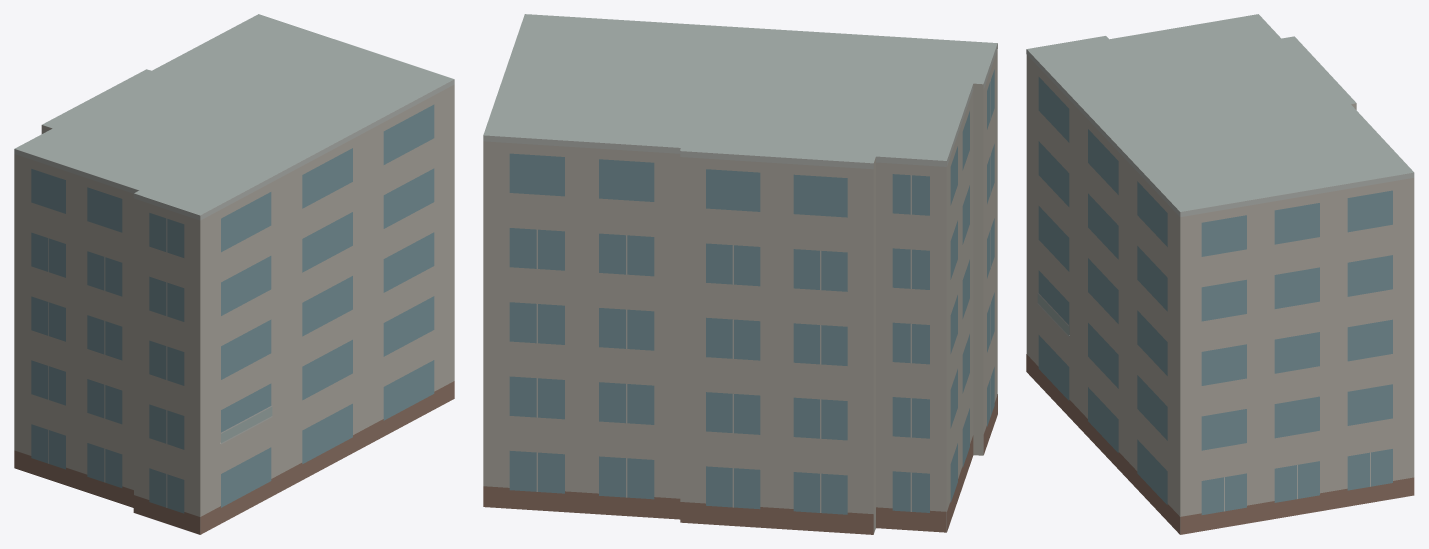
The model's file is survey-upis-32757835.glb.
3 views of the same model, side by side, from view 1: azimuth 30°, elevation 25°; view 2: azimuth 150°, elevation 25°; view 3: azimuth 270°, elevation 25° (orthographic). The views are drawn at different scales.
Parts seen in each view (by area): view 1: survey-upis-32757835.tmp; view 2: survey-upis-32757835.tmp; view 3: survey-upis-32757835.tmp.
Part boxes in pixels (x1=…): survey-upis-32757835.tmp: x1=14, y1=14, x2=454, y2=534; survey-upis-32757835.tmp: x1=483, y1=14, x2=997, y2=534; survey-upis-32757835.tmp: x1=1026, y1=14, x2=1414, y2=534.
Bounding box in the file's own units: 20.08 × 15.25 × 16.62.
